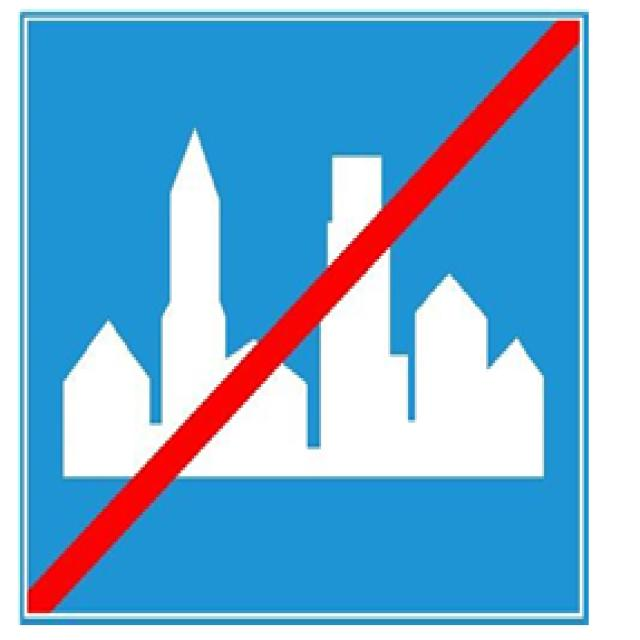Bien hieu lenh het khu dong dan cu: (4, 0, 609, 640)
